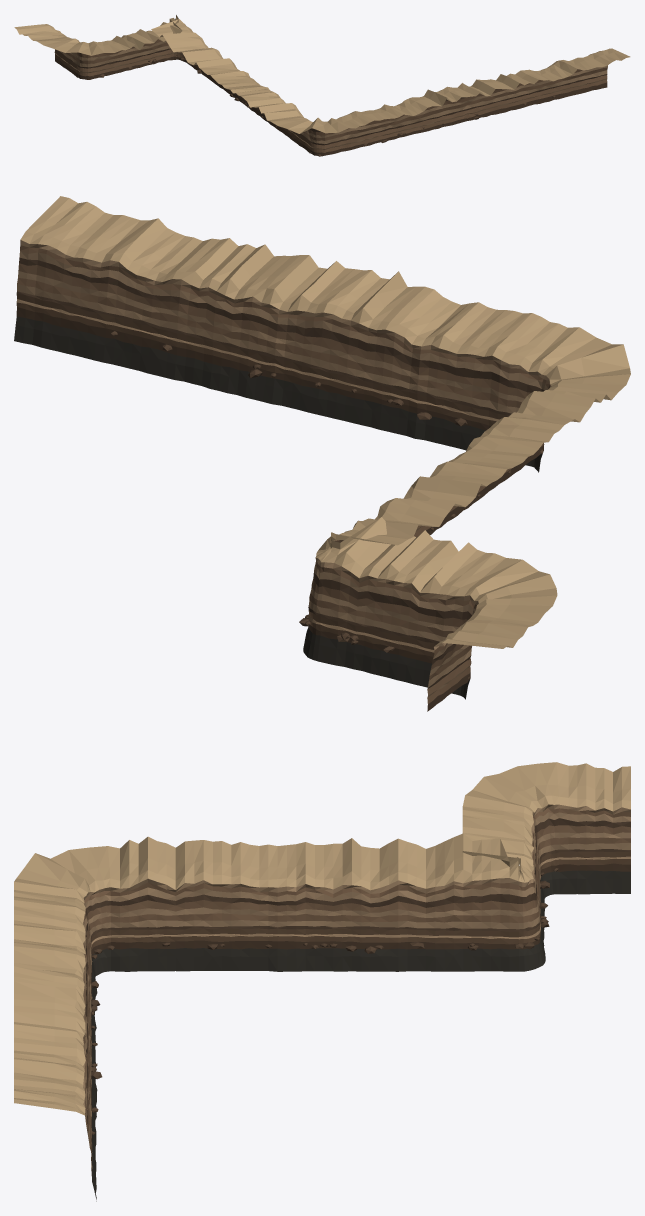
Rendered from borda-quadrante-espelhada.glb.
The picture shows the model from 3 angles, top to bottom: view 1: azimuth 30°, elevation 25°; view 2: azimuth 150°, elevation 25°; view 3: azimuth 270°, elevation 25°; orthographic projection. The views are drawn at different scales.
Visible parts, largest first — view 1: borda-quadrante-espelhada; view 2: borda-quadrante-espelhada; view 3: borda-quadrante-espelhada.
Part boxes in pixels (<box>): borda-quadrante-espelhada: <box>14,15,630,156</box>; borda-quadrante-espelhada: <box>14,196,630,711</box>; borda-quadrante-espelhada: <box>14,762,630,1201</box>.
Size of the model in its own units: 1590 by 228 by 1210.
